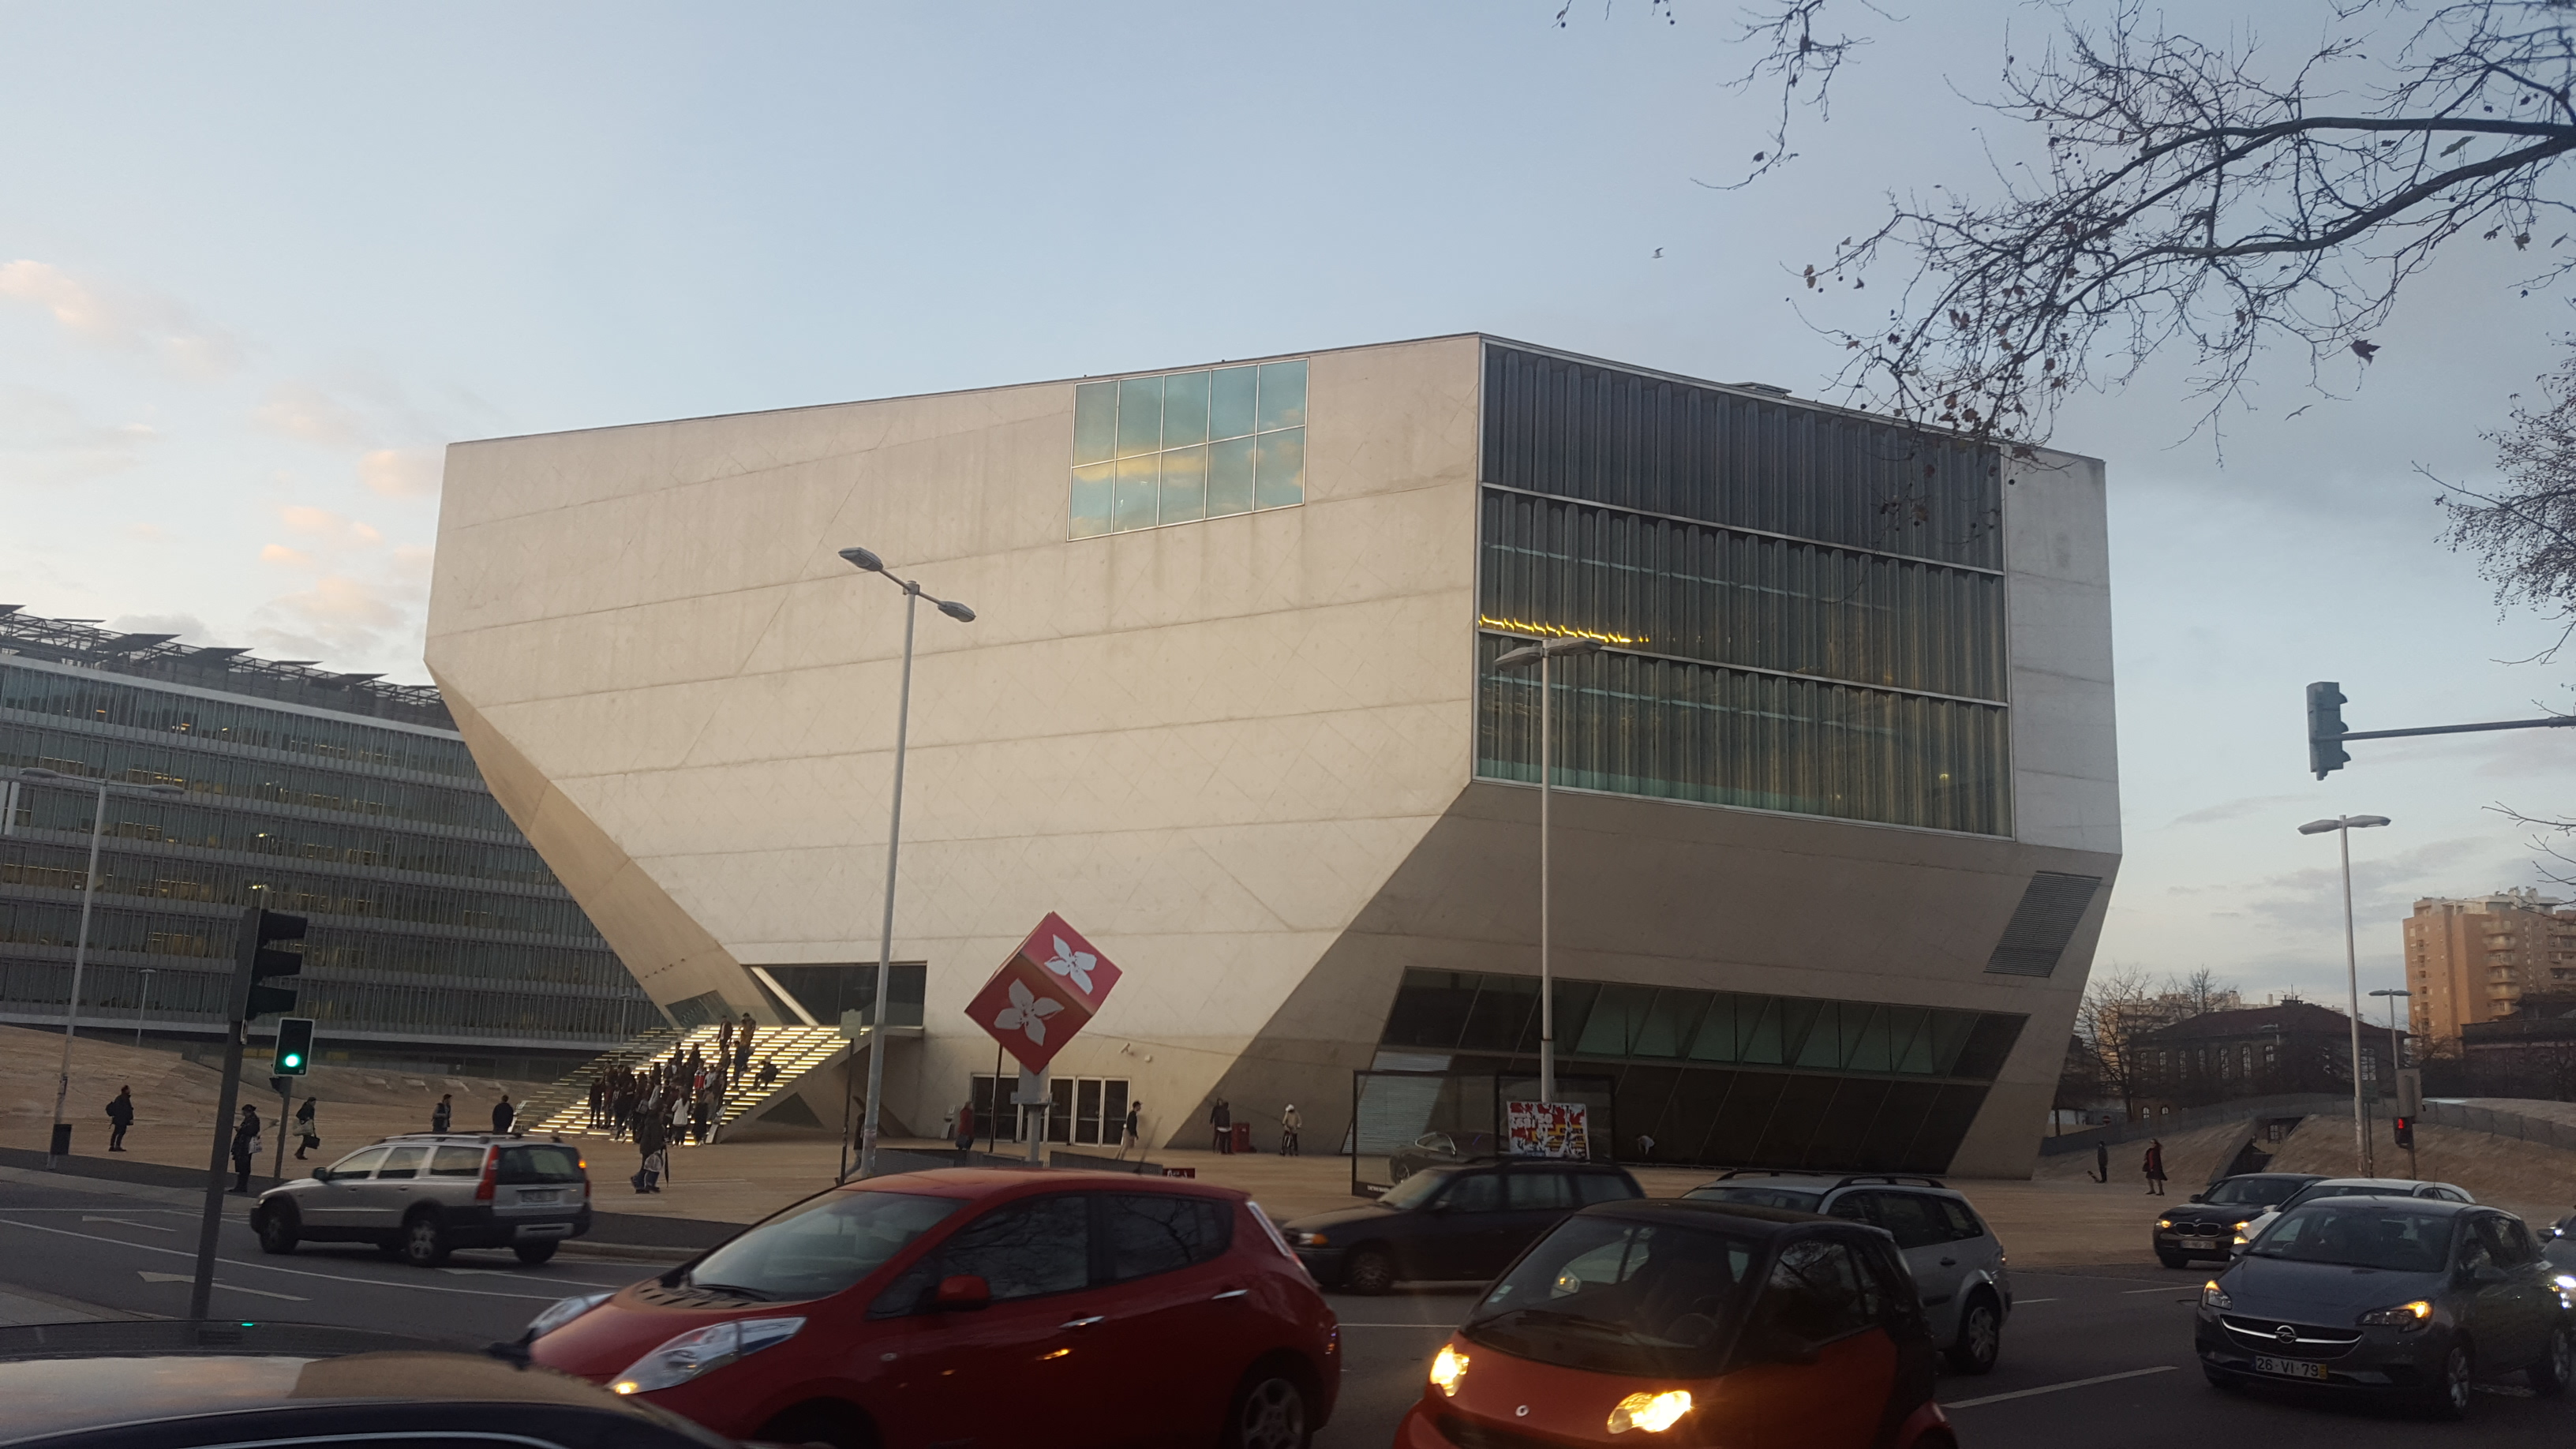musica: (433, 324, 1697, 853)
